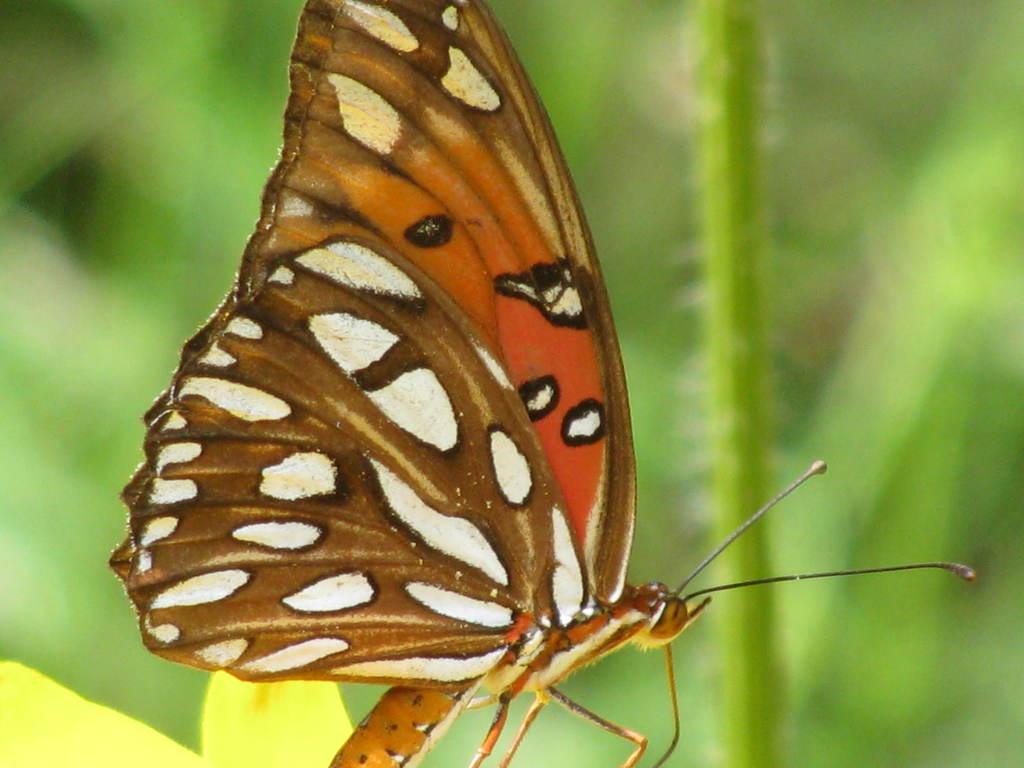Butterfly: (95, 1, 981, 768)
